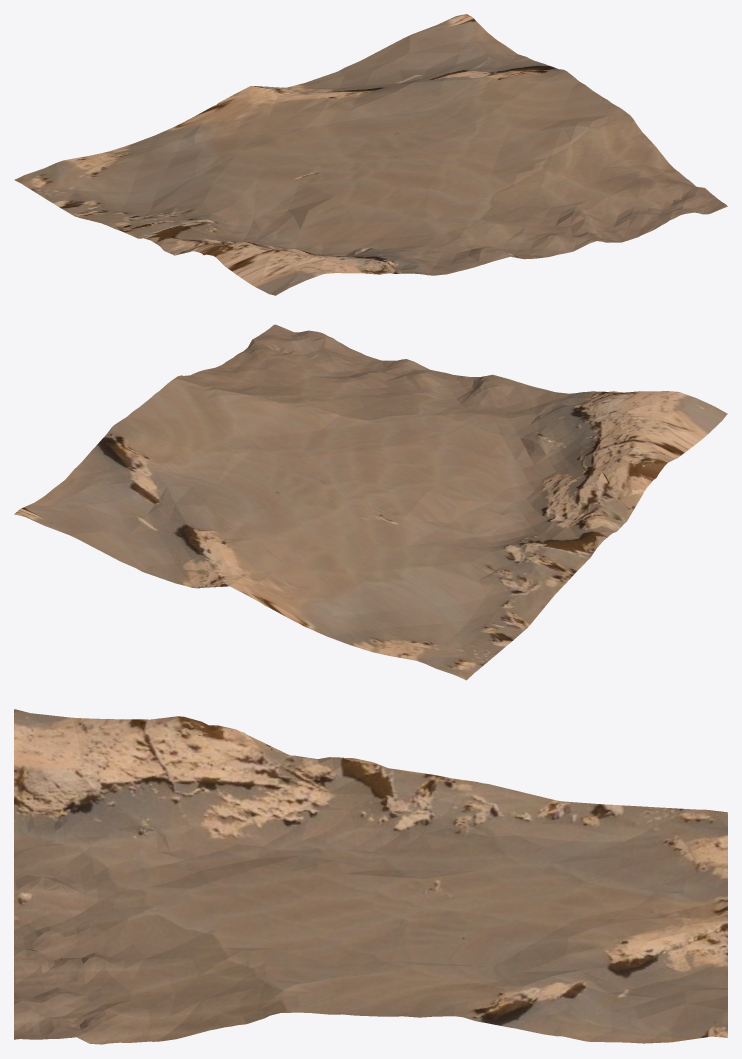
3 renders of one model, top to bottom at view 1: azimuth 30°, elevation 25°; view 2: azimuth 150°, elevation 25°; view 3: azimuth 270°, elevation 25°, orthographic. The views are drawn at different scales.
Bounding box in the file's own units: 1.04 × 0.1883 × 1.04.
Materials: 2 (2 with a texture image).
